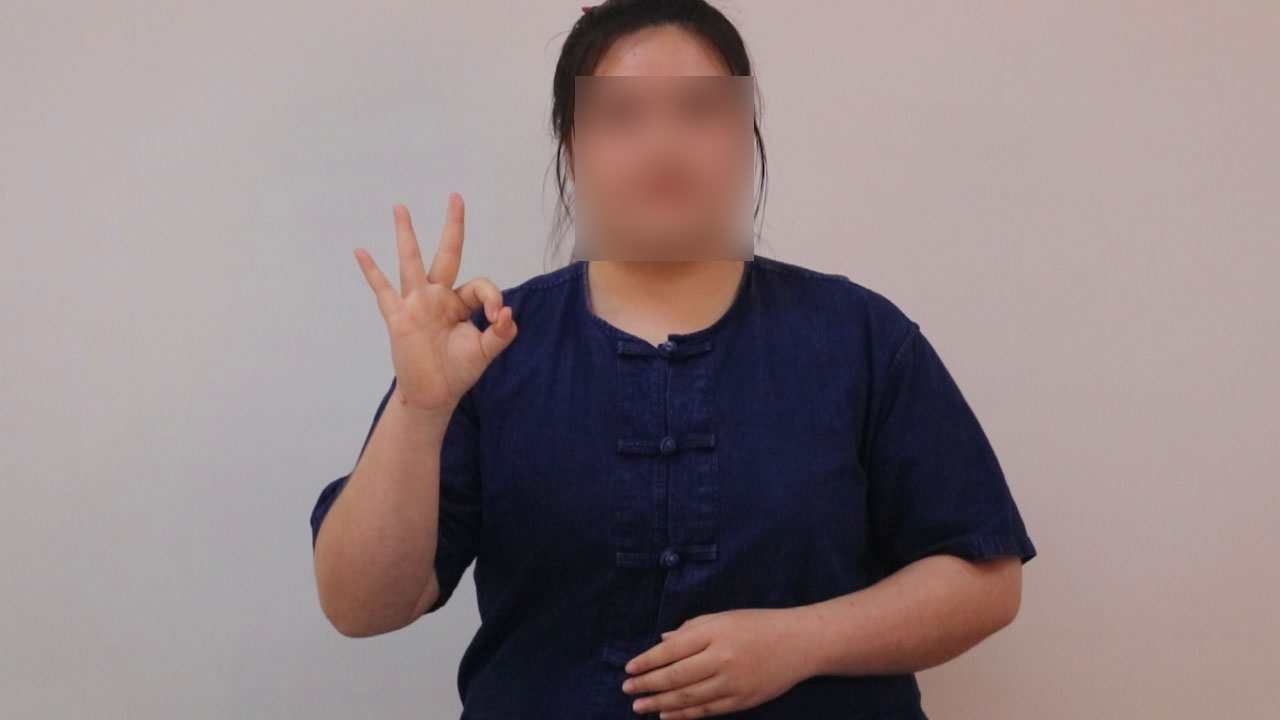for: (339, 182, 531, 421)
